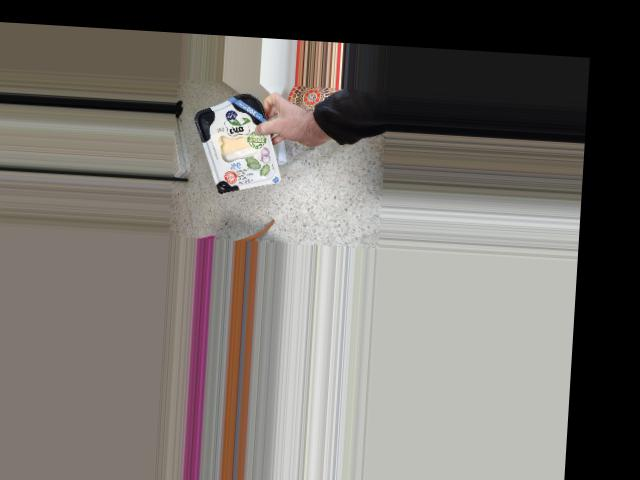cheese: (203, 95, 276, 194)
